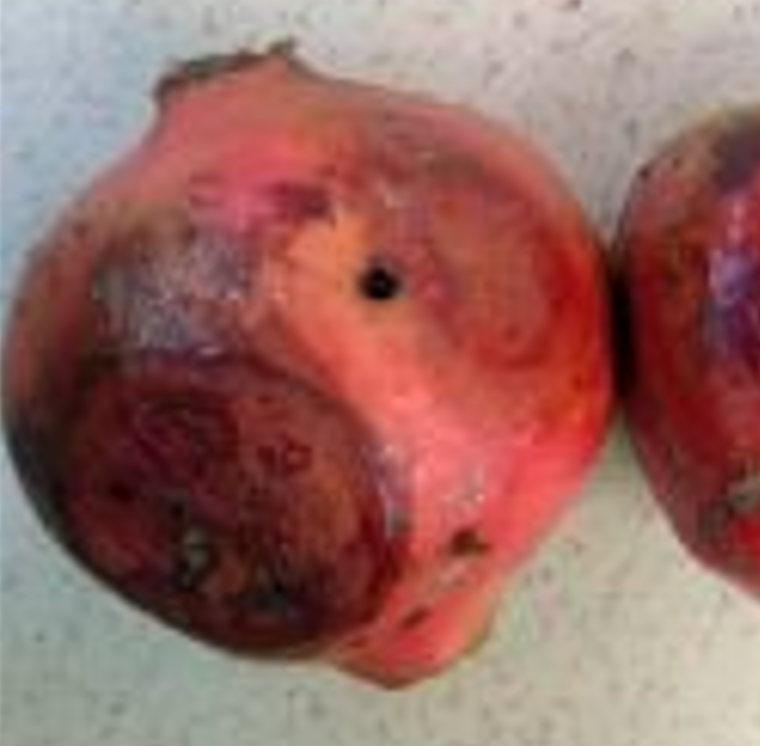pomegranate_C: (1, 37, 622, 692)
